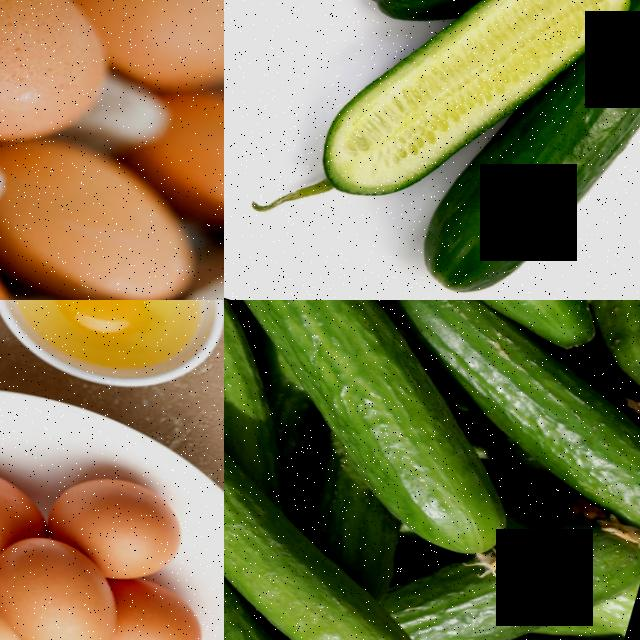cucumber: (260, 336, 545, 567), (305, 0, 545, 229), (406, 92, 630, 300), (461, 354, 640, 532), (224, 512, 459, 640), (458, 492, 640, 640), (330, 300, 630, 348), (581, 0, 640, 160), (565, 300, 640, 403), (354, 0, 503, 45)
egg_: (0, 130, 217, 300), (0, 0, 129, 173), (33, 456, 195, 584), (0, 531, 131, 640), (97, 576, 213, 640), (39, 300, 159, 345), (0, 443, 31, 554)
